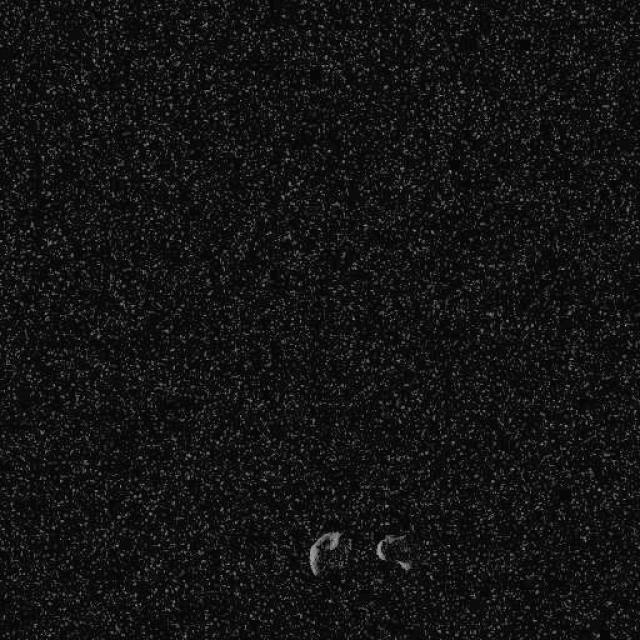D2: (308, 528, 347, 578), (375, 532, 414, 572)
